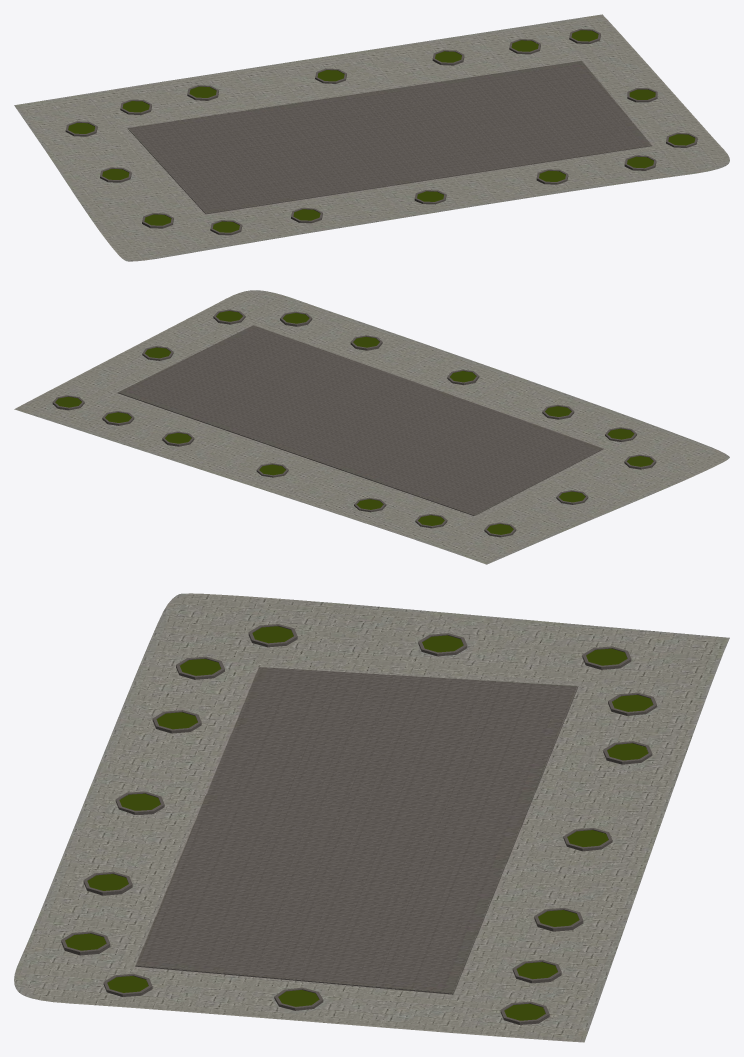
File: building_floor-transformed.glb
3 renders of one model, top to bottom at view 1: azimuth 30°, elevation 25°; view 2: azimuth 150°, elevation 25°; view 3: azimuth 270°, elevation 25°, orthographic. The views are drawn at different scales.
Visible parts, largest first — view 1: buildingPlot; view 2: buildingPlot; view 3: buildingPlot.
Part boxes in pixels (box(x1,y1,x2,y2)): buildingPlot: box(14, 14, 729, 261); buildingPlot: box(14, 290, 729, 564); buildingPlot: box(14, 593, 729, 1042).
Bounding box in the file's own units: 98.91 × 0.984 × 66.75.
Materials: 2 (1 with a texture image).
